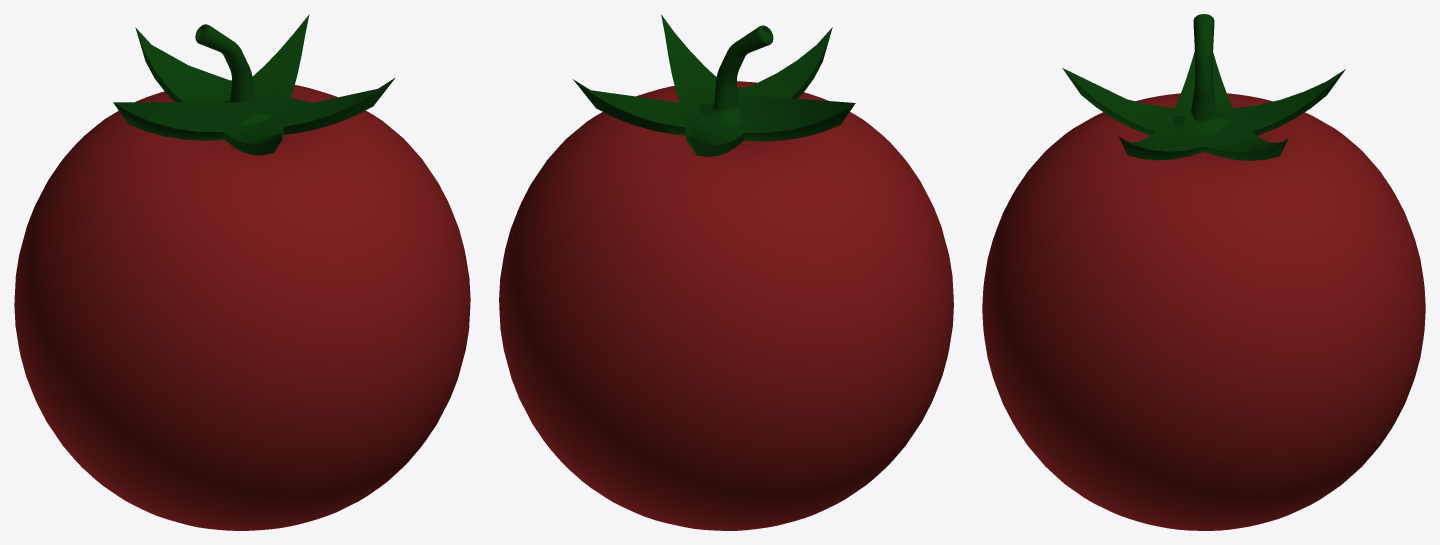
Rendered from tomato.fbx.
3 renders of one model, left to right at view 1: azimuth 30°, elevation 25°; view 2: azimuth 150°, elevation 25°; view 3: azimuth 270°, elevation 25°, orthographic. The views are drawn at different scales.
Parts seen in each view (by area): view 1: Sphere, Extrude, Cylinder; view 2: Sphere, Extrude, Cylinder; view 3: Sphere, Extrude, Cylinder.
Boxes of the visible parts, box(x1,y1,x2,y2) form: Sphere: box(14, 80, 470, 530); Extrude: box(113, 14, 395, 155); Cylinder: box(195, 24, 271, 126); Sphere: box(499, 81, 953, 530); Extrude: box(573, 14, 855, 156); Cylinder: box(699, 25, 773, 127); Sphere: box(982, 93, 1425, 530); Extrude: box(1062, 51, 1345, 160); Cylinder: box(1173, 14, 1231, 135).
Bounding box in the file's own units: 11.44 × 13.36 × 11.44.
